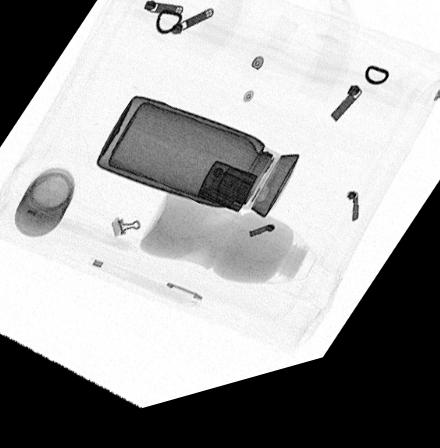Lighter: (196, 172, 257, 226)
